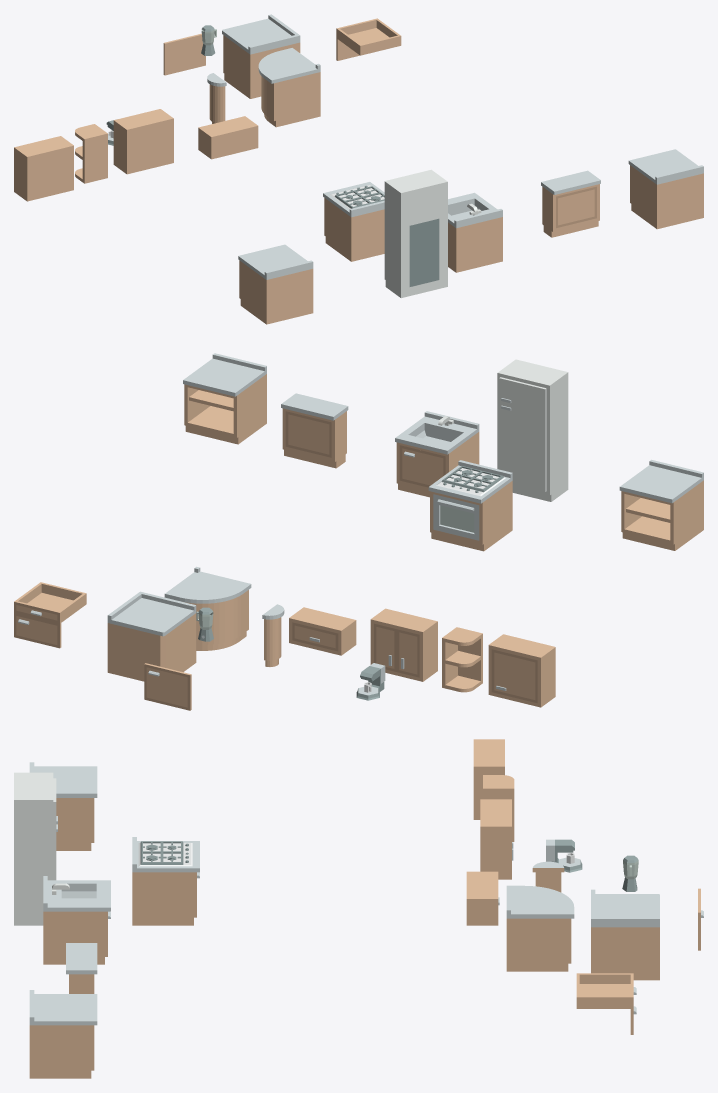
File: cuisine.dae
3 views of the same model, one above another, from view 1: azimuth 30°, elevation 25°; view 2: azimuth 150°, elevation 25°; view 3: azimuth 270°, elevation 25° (orthographic). The views are drawn at different scales.
Visible parts, largest first — view 1: kitchenFridge, kitchenCabinet, kitchenCabinetDrawer, kitchenStove, kitchenCabinetCornerRound, kitchenSink, kitchenCabinetCornerInner, kitchenCabinetUpperDouble, kitchenCabinetUpper, kitchenBar, kitchenCabinetUpperLow, drawer (+3 smaller); view 2: kitchenCabinetCornerInner, kitchenCabinet, kitchenCabinetDrawer, kitchenStove, kitchenFridge, kitchenBar, kitchenCabinetCornerRound, doorFridge, kitchenSink, kitchenCabinetUpperCorner, kitchenCabinetUpper, kitchenCabinetUpperDouble (+13 smaller); view 3: kitchenCabinetCornerInner, kitchenCabinetDrawer, kitchenFridge, kitchenStove, kitchenCabinetCornerRound, kitchenSink, kitchenCabinet, kitchenCabinetUpperDouble, drawer, kitchenCabinetUpperLow, kitchenCabinetUpper, kitchenBar (+3 smaller).
Boxes of the visible parts, x1,y1,x2,y2 form: kitchenFridge: (384,169,447,298); kitchenCabinet: (238,244,313,324); kitchenCabinetDrawer: (628,149,703,229); kitchenStove: (323,182,384,261); kitchenCabinetCornerRound: (258,48,320,127); kitchenSink: (448,192,502,272); kitchenCabinetCornerInner: (222,14,300,98); kitchenCabinetUpperDouble: (113,109,173,174); kitchenCabinetUpper: (14,136,73,201); kitchenBar: (541,170,600,237); kitchenCabinetUpperLow: (198,116,258,159); drawer: (336,18,401,55); kitchenCabinetCornerInner: (107,591,196,681); kitchenCabinet: (619,459,703,550); kitchenCabinetDrawer: (183,353,266,444); kitchenStove: (428,460,512,551); kitchenFridge: (497,359,568,501); kitchenBar: (281,393,348,468); kitchenCabinetCornerRound: (164,566,251,650); doorFridge: (499,402,546,492); kitchenSink: (395,411,479,497); kitchenCabinetUpperCorner: (442,627,482,692); kitchenCabinetUpper: (488,634,555,707); kitchenCabinetUpperDouble: (370,608,437,681); kitchenCabinetCornerInner: (591,889,659,980); kitchenCabinetDrawer: (29,990,97,1078); kitchenFridge: (14,772,53,925); kitchenStove: (132,837,199,925); kitchenCabinetCornerRound: (506,885,574,971); kitchenSink: (43,876,110,964); kitchenCabinet: (29,762,97,850); kitchenCabinetUpperDouble: (480,799,511,879); drawer: (576,973,636,1008); kitchenCabinetUpperLow: (466,871,498,925); kitchenCabinetUpper: (473,739,504,819); kitchenBar: (66,943,97,993).
Bounding box in the file's own units: 4.5 × 4.59 × 0.9356.
